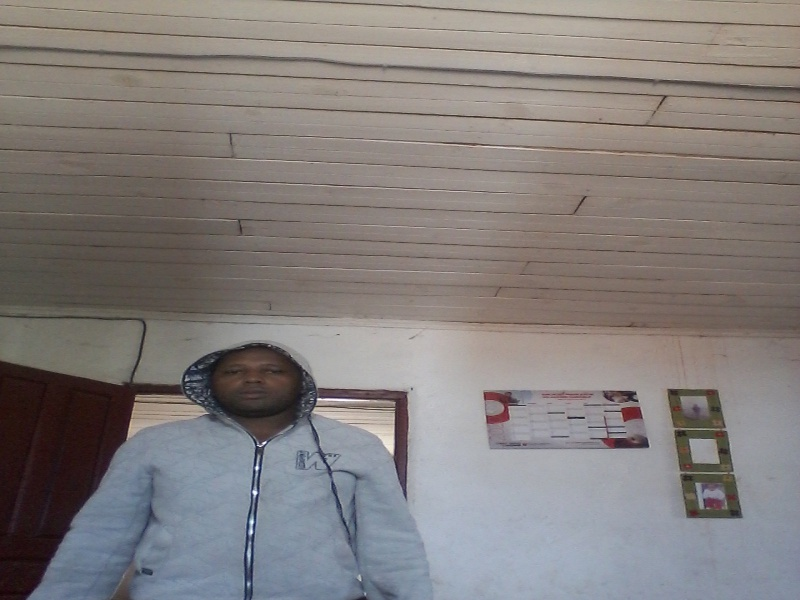TsisyArotava: (193, 334, 331, 428)
